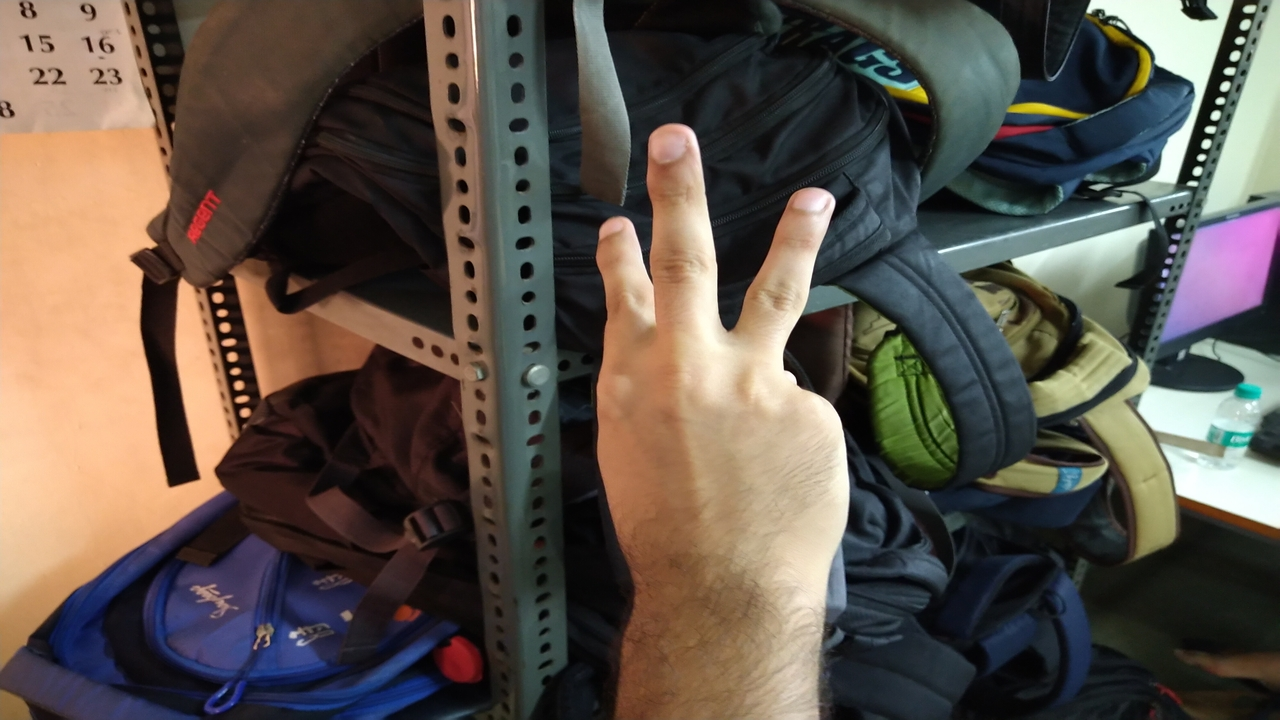fingertip: (772, 176, 844, 240), (642, 122, 706, 178), (586, 206, 644, 256)
